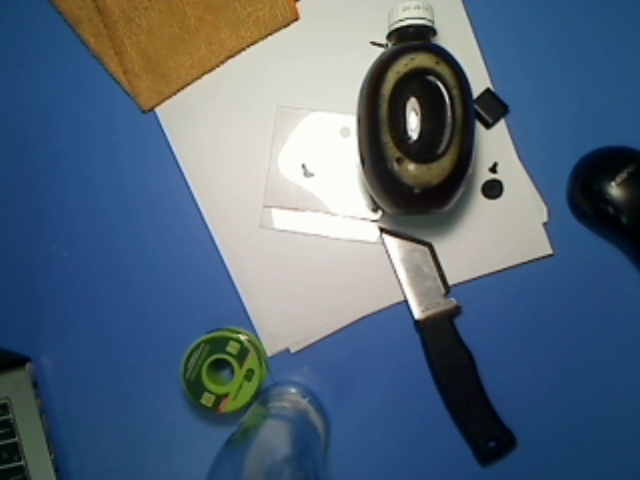plast_bottle: (352, 1, 481, 224)
